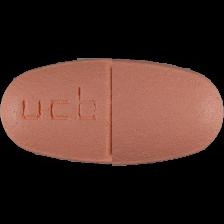54868-5266: (0, 0, 224, 224)
